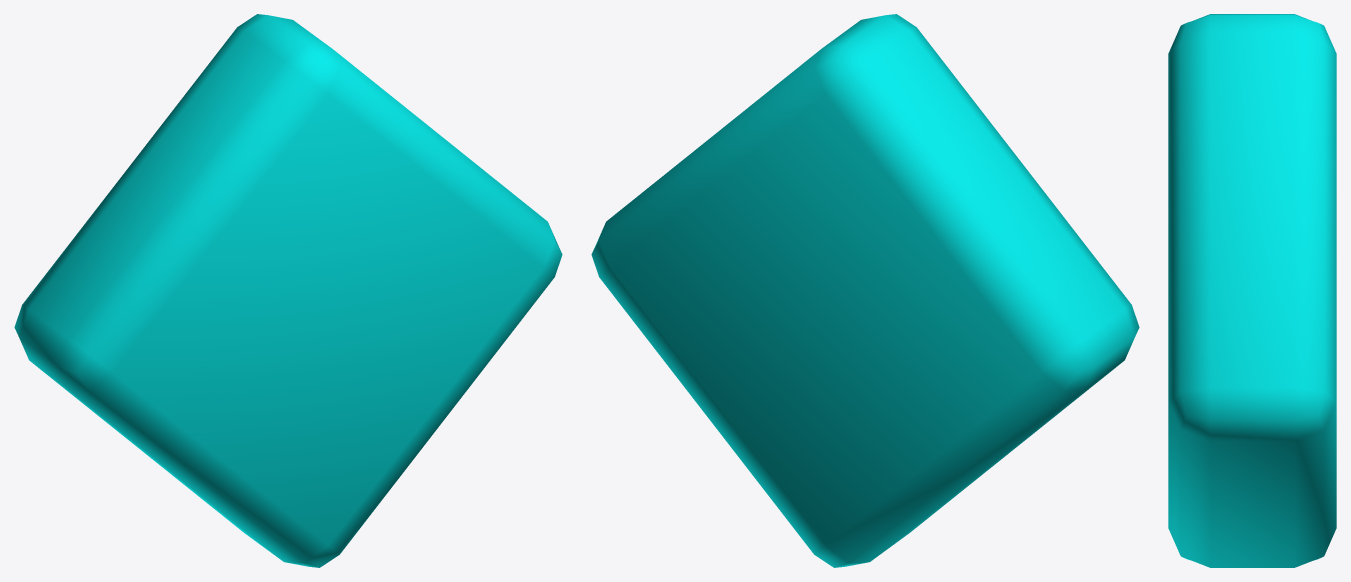
Rendered from Handle.fbx.
The picture shows the model from 3 angles, left to right: view 1: azimuth 30°, elevation 25°; view 2: azimuth 150°, elevation 25°; view 3: azimuth 270°, elevation 25°; orthographic projection. The views are drawn at different scales.
Parts seen in each view (by area): view 1: pCube1; view 2: pCube1; view 3: pCube1.
Part boxes in pixels (x1=…): pCube1: x1=14, y1=14, x2=562, y2=567; pCube1: x1=591, y1=14, x2=1139, y2=567; pCube1: x1=1168, y1=14, x2=1336, y2=567.
Size of the model in its own units: 0.6739 by 0.6739 by 0.1862.
